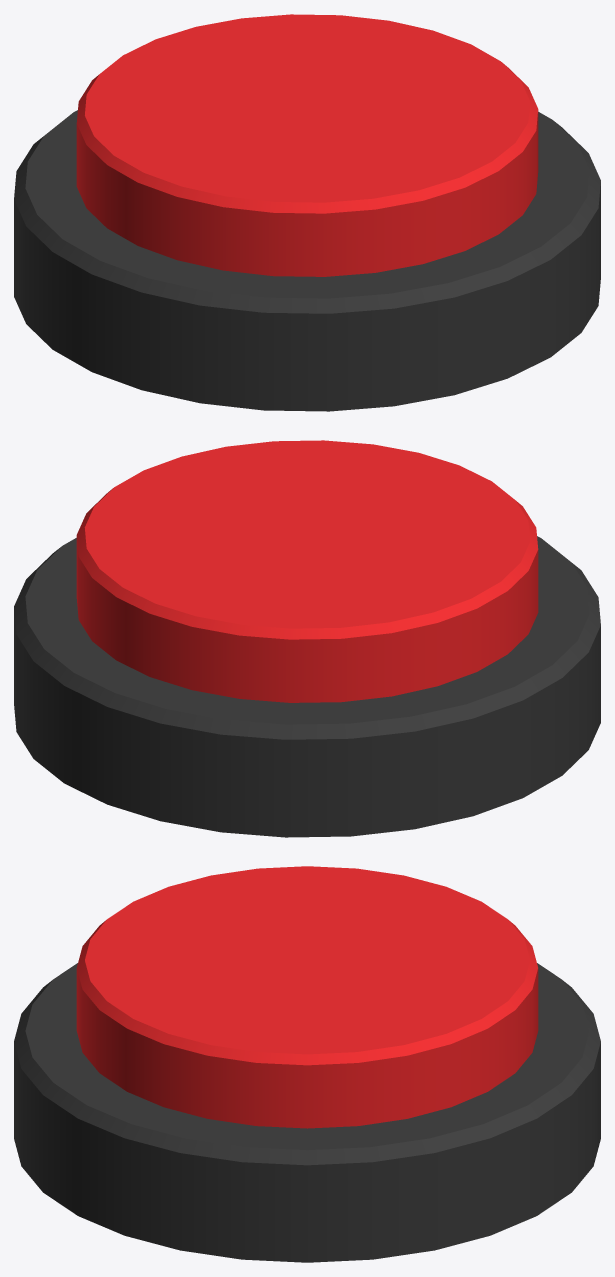
File: laser_button.fbx
3 renders of one model, top to bottom at view 1: azimuth 30°, elevation 25°; view 2: azimuth 150°, elevation 25°; view 3: azimuth 270°, elevation 25°, orthographic.
Parts seen in each view (by area): view 1: LaserButtonOnly, LaserButton_base; view 2: LaserButtonOnly, LaserButton_base; view 3: LaserButtonOnly, LaserButton_base.
Boxes of the visible parts, x1,y1,x2,y2 form: LaserButtonOnly: [76, 14, 538, 276]; LaserButton_base: [14, 110, 600, 411]; LaserButtonOnly: [76, 440, 538, 702]; LaserButton_base: [14, 536, 600, 837]; LaserButtonOnly: [76, 866, 538, 1128]; LaserButton_base: [14, 963, 600, 1262].
Bounding box in the file's own units: 1.2 × 0.4009 × 1.2.
